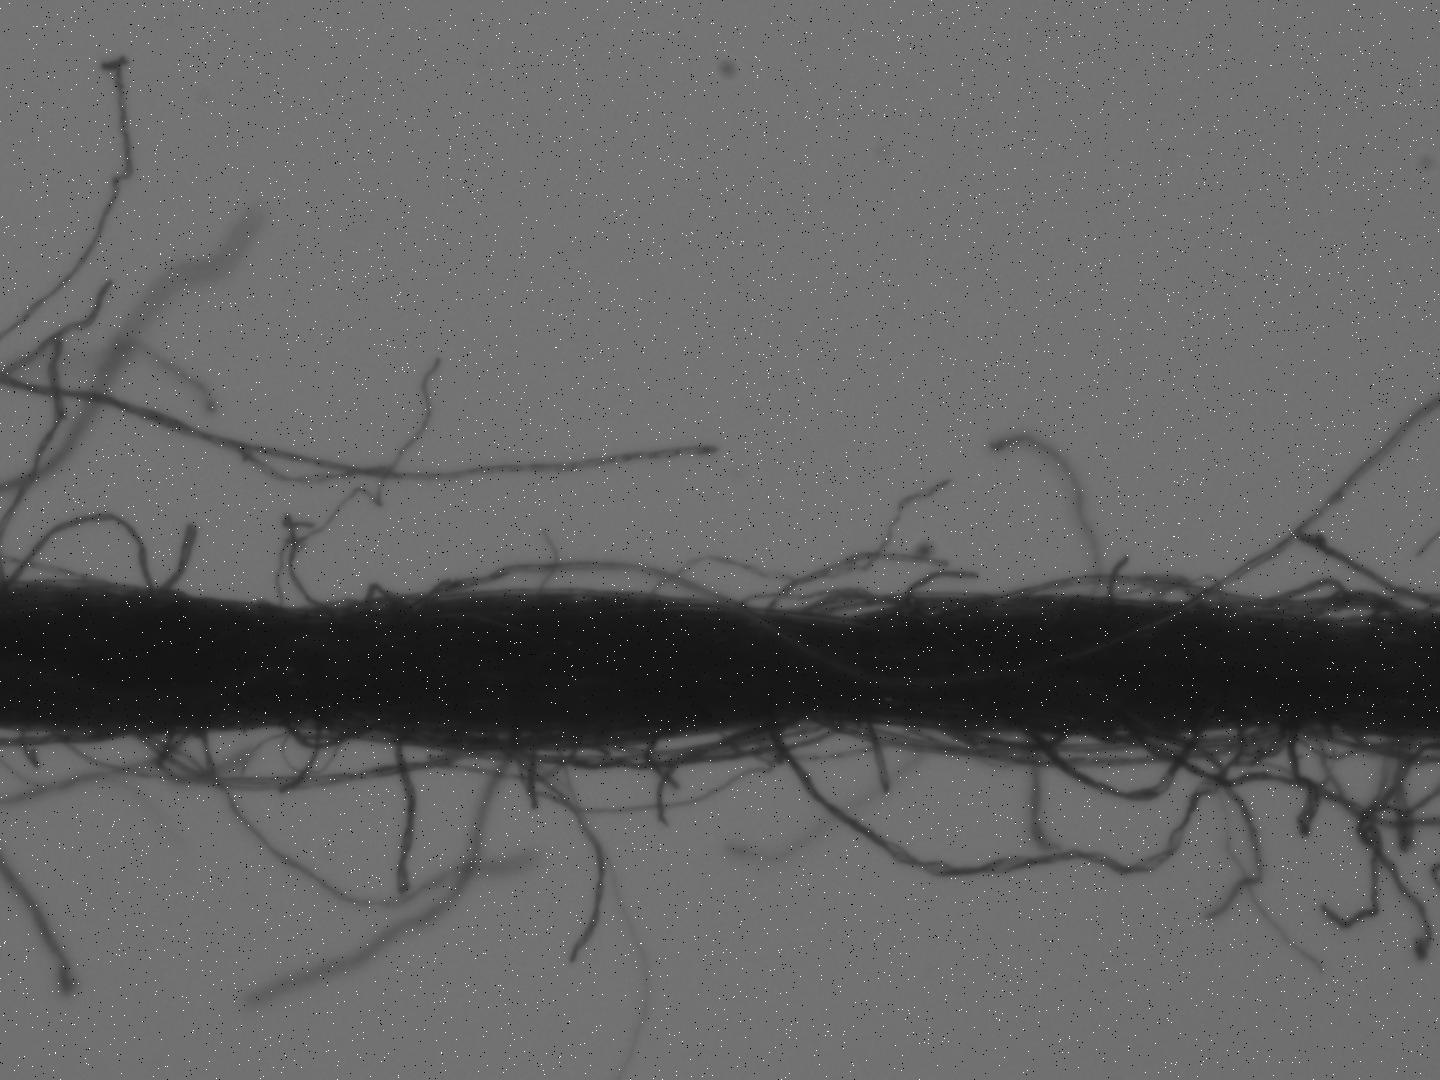loop_fiber: (57, 731, 455, 790), (1003, 574, 1395, 625), (516, 724, 847, 769), (1023, 728, 1198, 801), (9, 509, 149, 592), (1174, 723, 1296, 769), (797, 587, 948, 619), (1297, 728, 1413, 760), (277, 723, 366, 751), (359, 579, 397, 614)
protruding_fiber: (501, 743, 610, 967), (1301, 530, 1431, 611), (886, 565, 976, 610), (156, 523, 201, 597), (392, 740, 412, 892), (864, 722, 891, 794), (1103, 551, 1134, 614)
